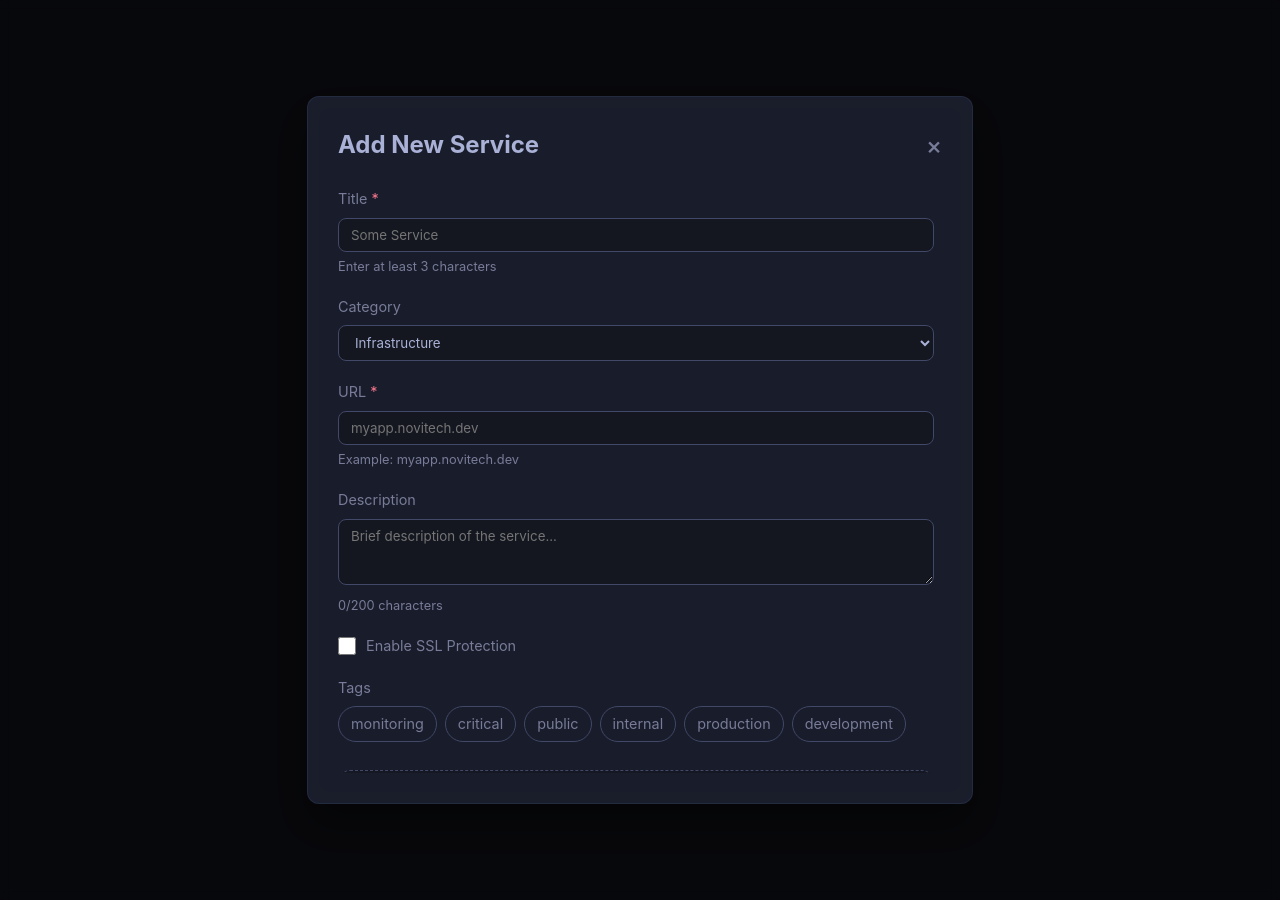
Scenario: AddServiceModal Component › should disable submit button when form is invalid
This screenshot has width=1280, height=900.
Type "Te" into the field with placeholder "Some Service" at (636, 235), box [338,218,934,252]
(page scrolled)
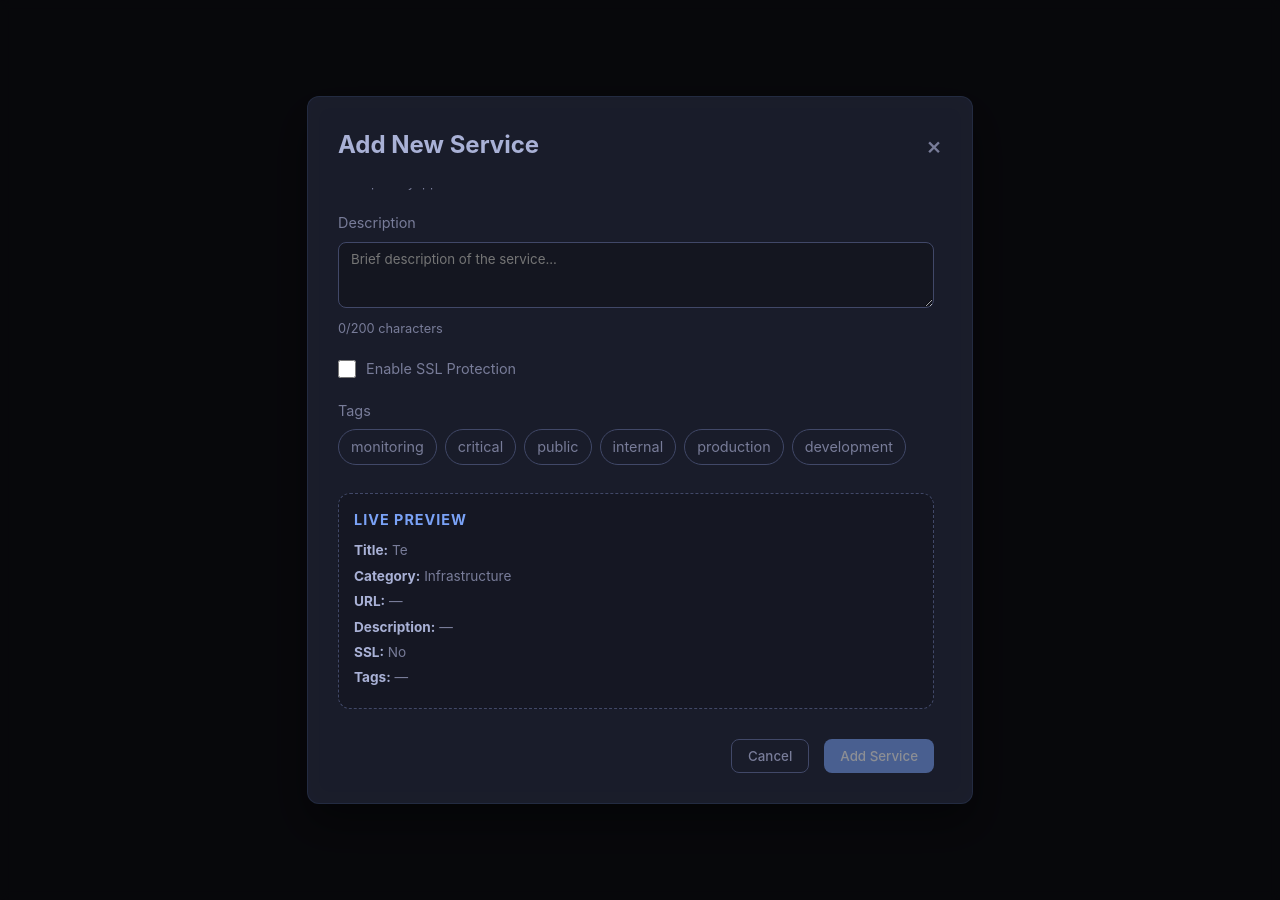
Now the button "Add Service" is disabled, box [824,739,934,773]
